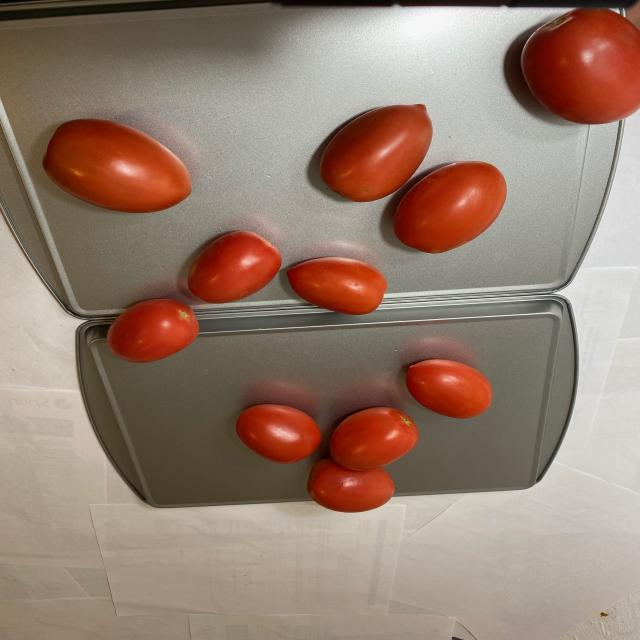tomato: (45, 8, 638, 360), (234, 358, 496, 512)
